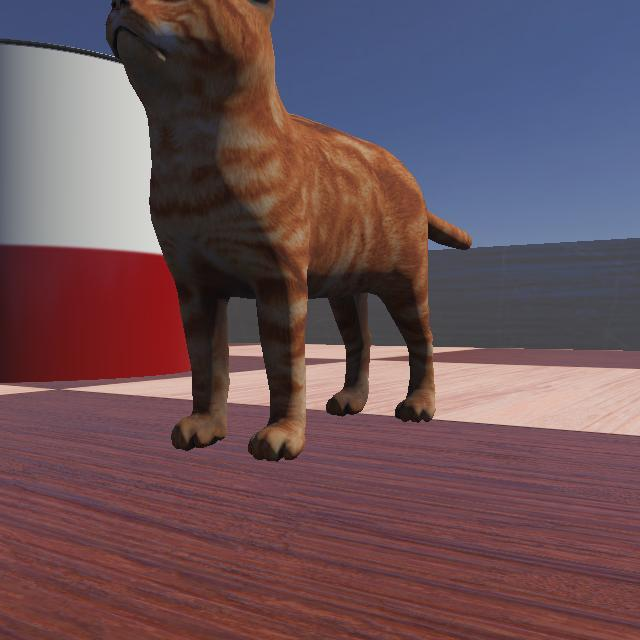cat: (69, 0, 639, 486), (69, 0, 639, 486)
paint-bucket: (0, 36, 284, 386)
